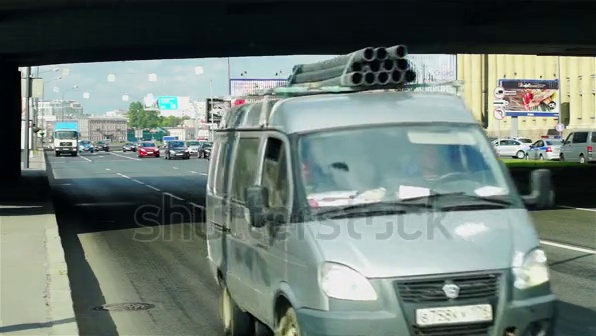licenseplate: (415, 311, 492, 327)
